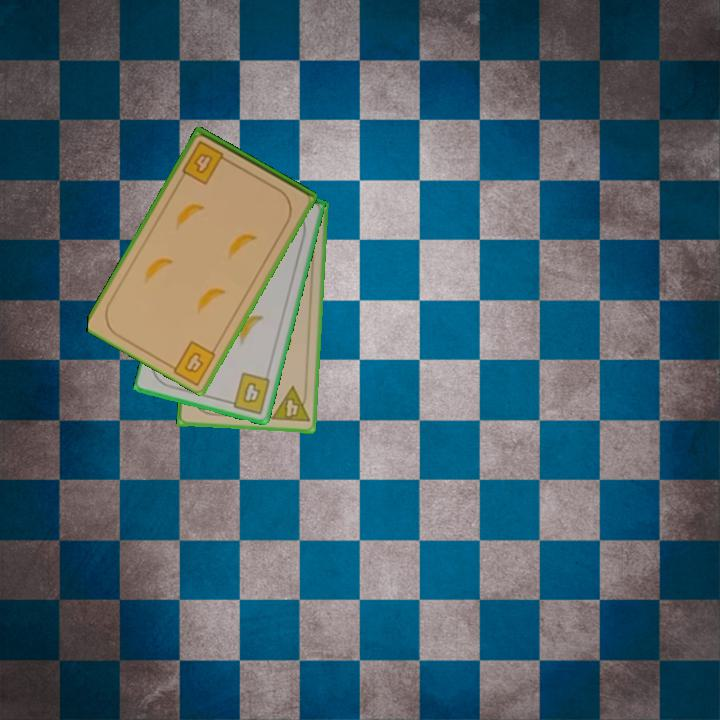4b: (178, 137, 233, 187), (223, 369, 273, 417), (181, 348, 207, 377)
4p: (268, 383, 312, 425)
